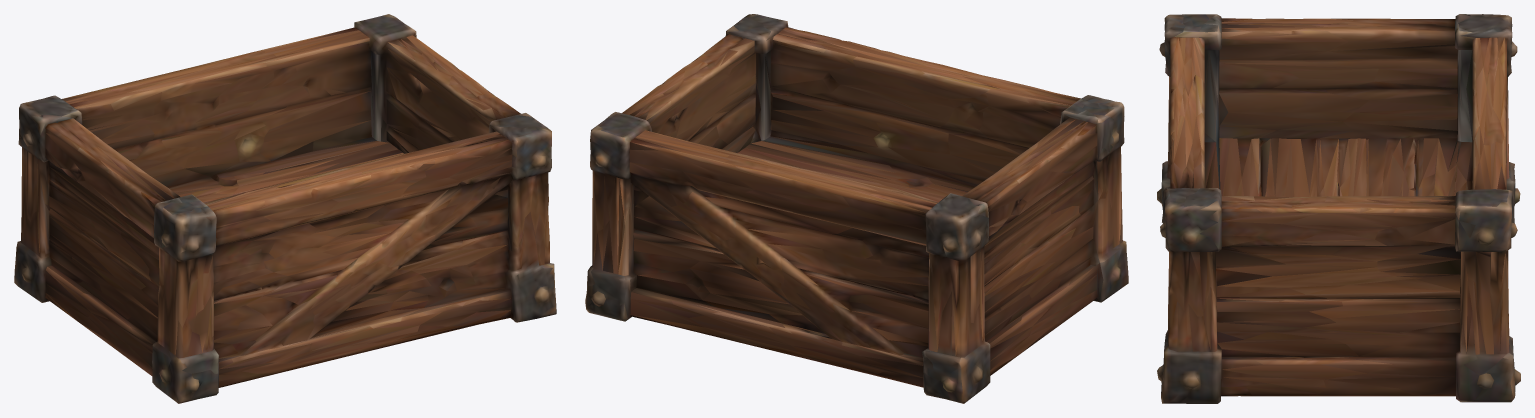
File: crate-02.glb
The picture shows the model from 3 angles, left to right: view 1: azimuth 30°, elevation 25°; view 2: azimuth 150°, elevation 25°; view 3: azimuth 270°, elevation 25°; orthographic projection. The views are drawn at different scales.
Visible parts, largest first — view 1: nebeljagd-tripo-crate-02; view 2: nebeljagd-tripo-crate-02; view 3: nebeljagd-tripo-crate-02.
Boxes of the visible parts, left/top/right/bottom form: nebeljagd-tripo-crate-02: left=14, top=14, right=556, bottom=403; nebeljagd-tripo-crate-02: left=585, top=14, right=1128, bottom=403; nebeljagd-tripo-crate-02: left=1157, top=14, right=1520, bottom=403.
Size of the model in its own units: 1.4 by 0.6388 by 1.07.
1 material, 1 textured.
